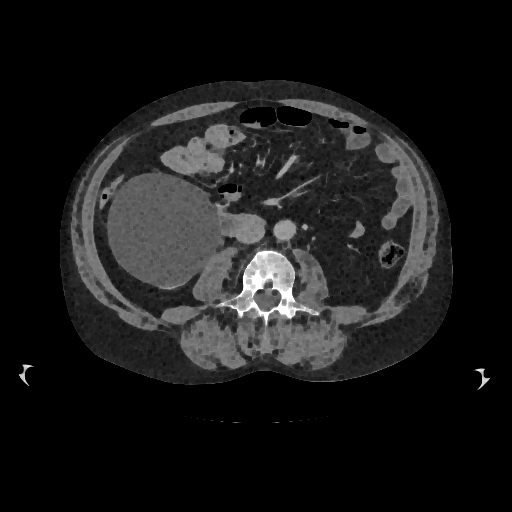Lesion: (105, 170, 214, 287)
